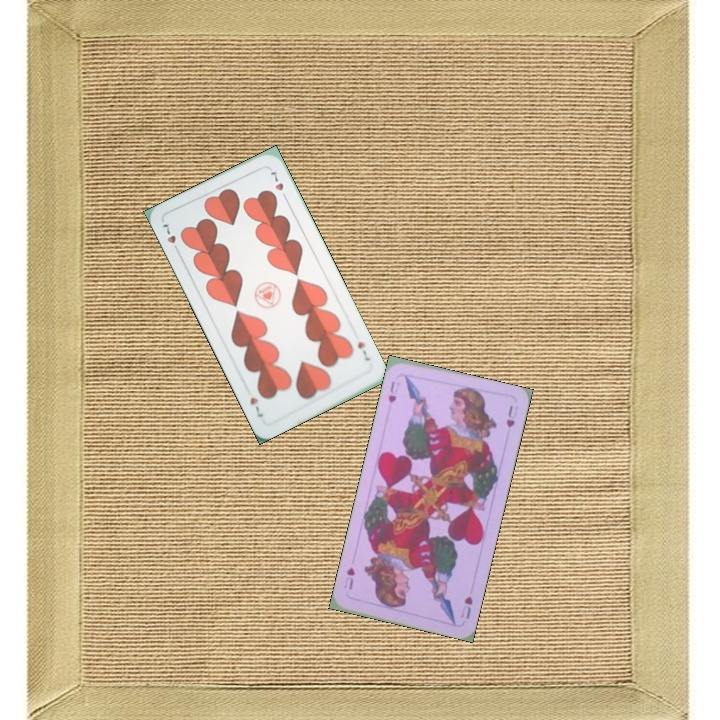H7: (158, 220, 182, 256), (353, 337, 373, 364)
HU: (457, 592, 475, 622), (384, 377, 399, 405)
